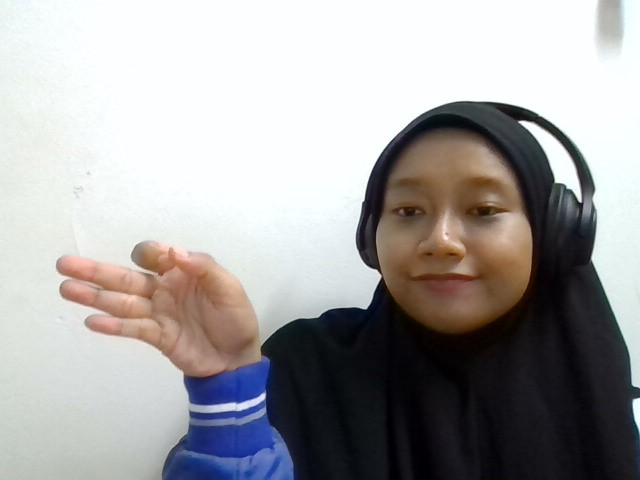Angsa: (57, 239, 260, 376)
